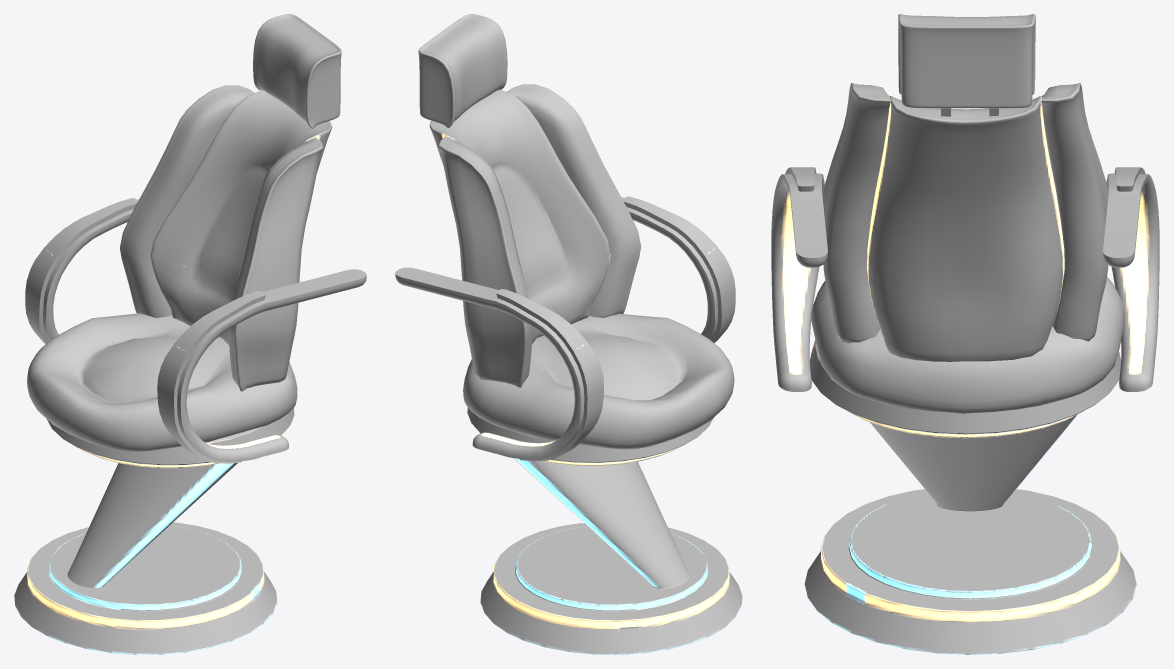
Rendered from SM_NormalChair.fbx.
The picture shows the model from 3 angles, left to right: view 1: azimuth 30°, elevation 25°; view 2: azimuth 150°, elevation 25°; view 3: azimuth 270°, elevation 25°; orthographic projection. The views are drawn at different scales.
Parts seen in each view (by area): view 1: SM_NormalChair_LOD0; view 2: SM_NormalChair_LOD0; view 3: SM_NormalChair_LOD0.
Part boxes in pixels (left/top/right/bottom): SM_NormalChair_LOD0: left=14, top=14, right=366, bottom=654; SM_NormalChair_LOD0: left=395, top=14, right=742, bottom=654; SM_NormalChair_LOD0: left=771, top=14, right=1159, bottom=654.
Bounding box in the file's own units: 82.77 × 146 × 77.16.
